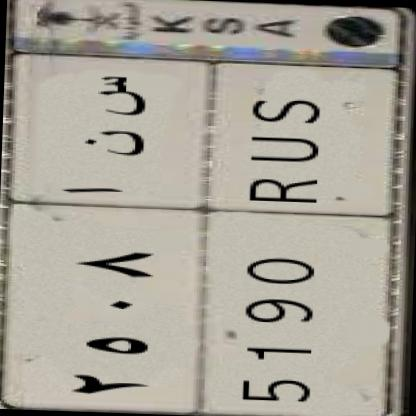english: (173, 53, 416, 416)
